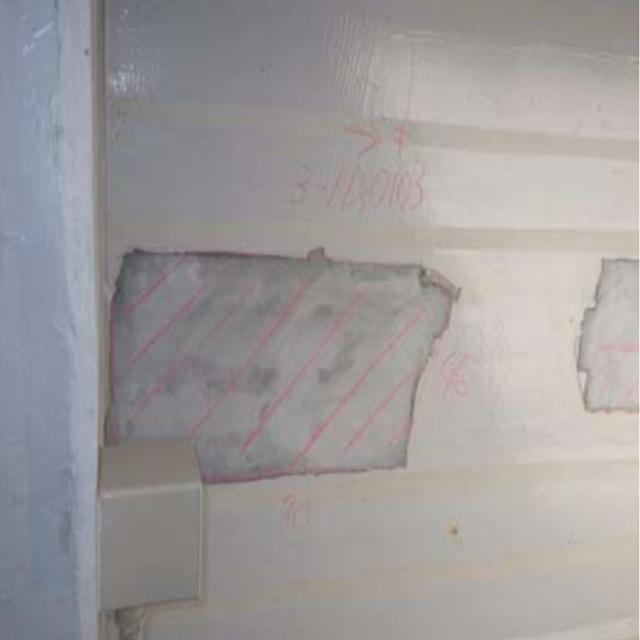spalling: (114, 247, 443, 480), (560, 251, 640, 426)
